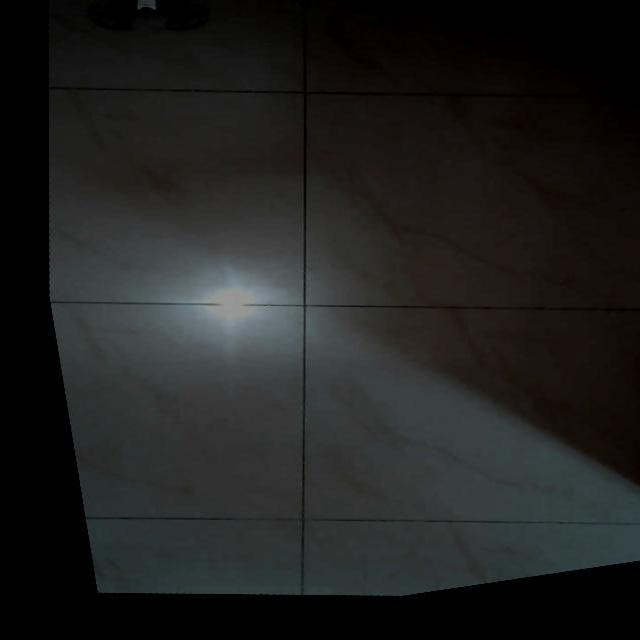drone: (85, 0, 201, 35)
